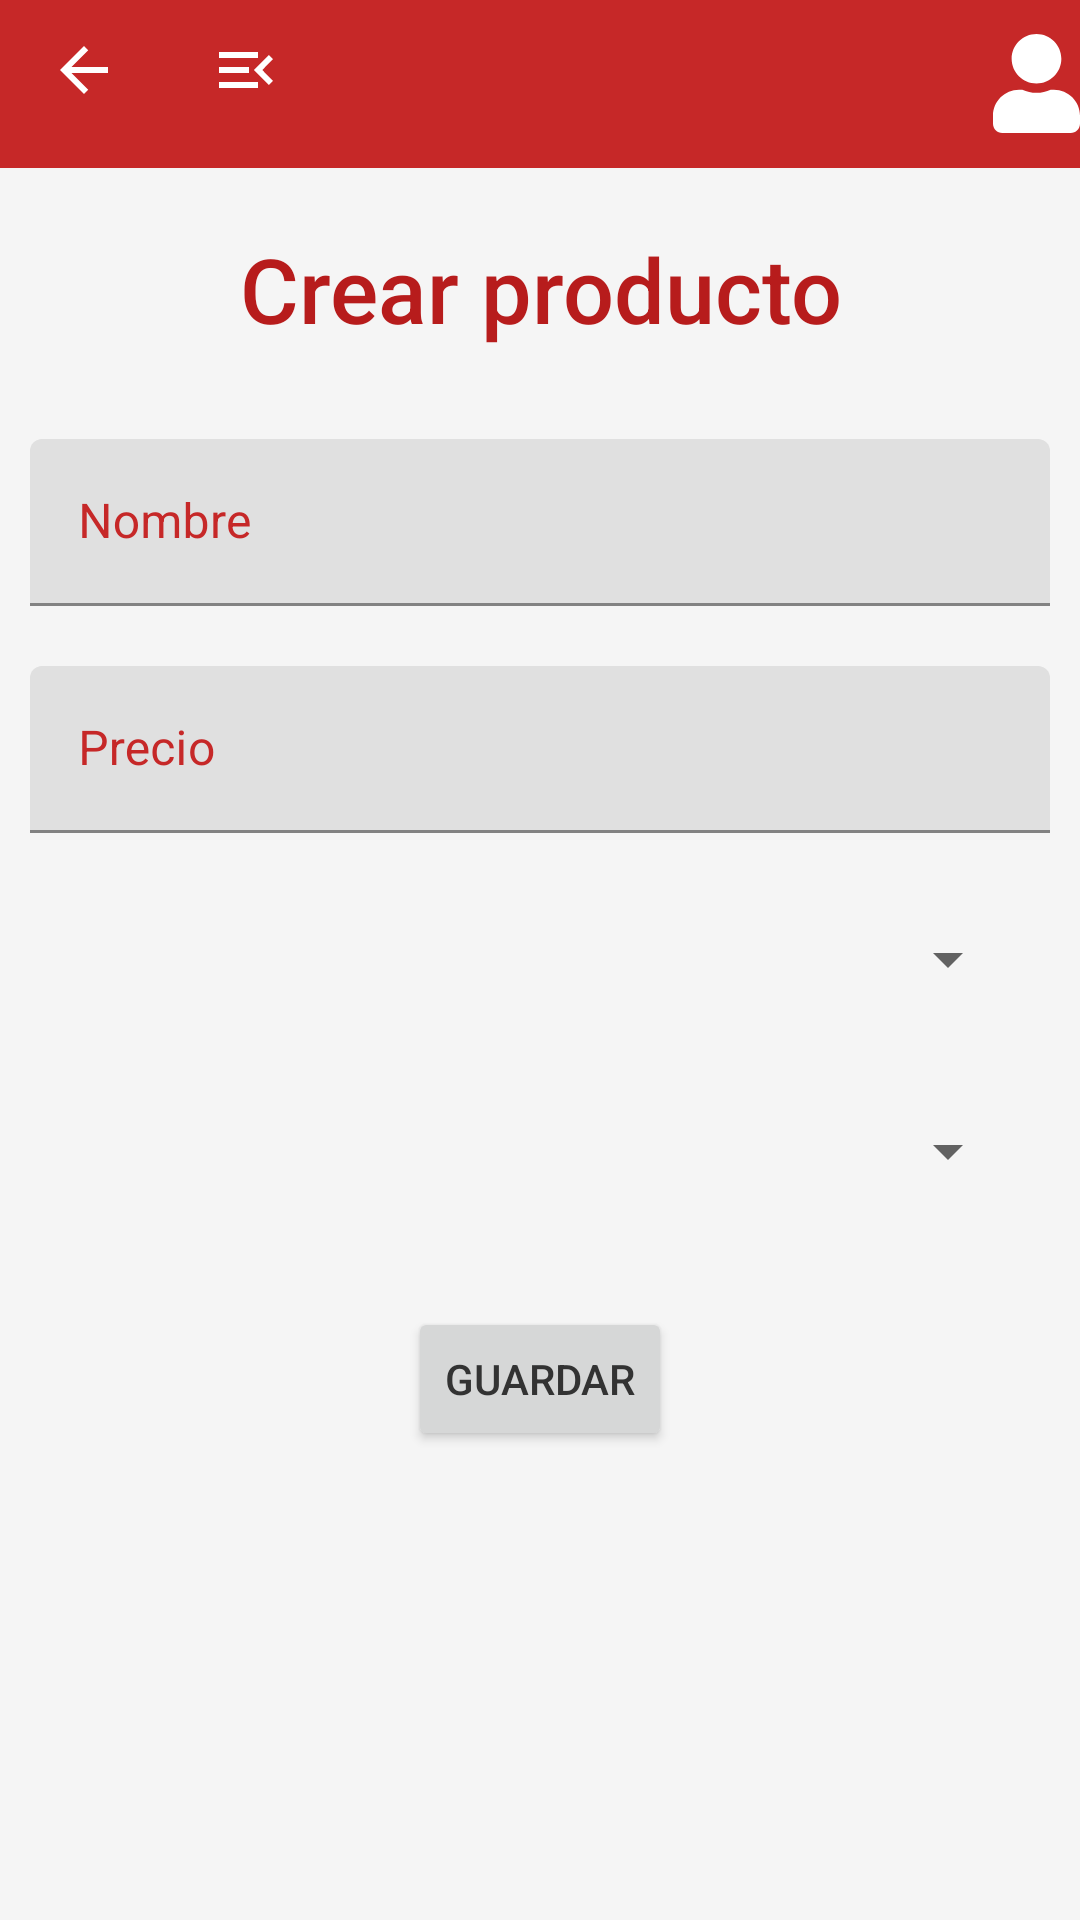

Point at icon controls on the screen. Image size 1080w x 1920h, points as (x=x, y=y).
arrow back: (x=84, y=70)
open: (x=246, y=70)
user: (x=1036, y=83)
